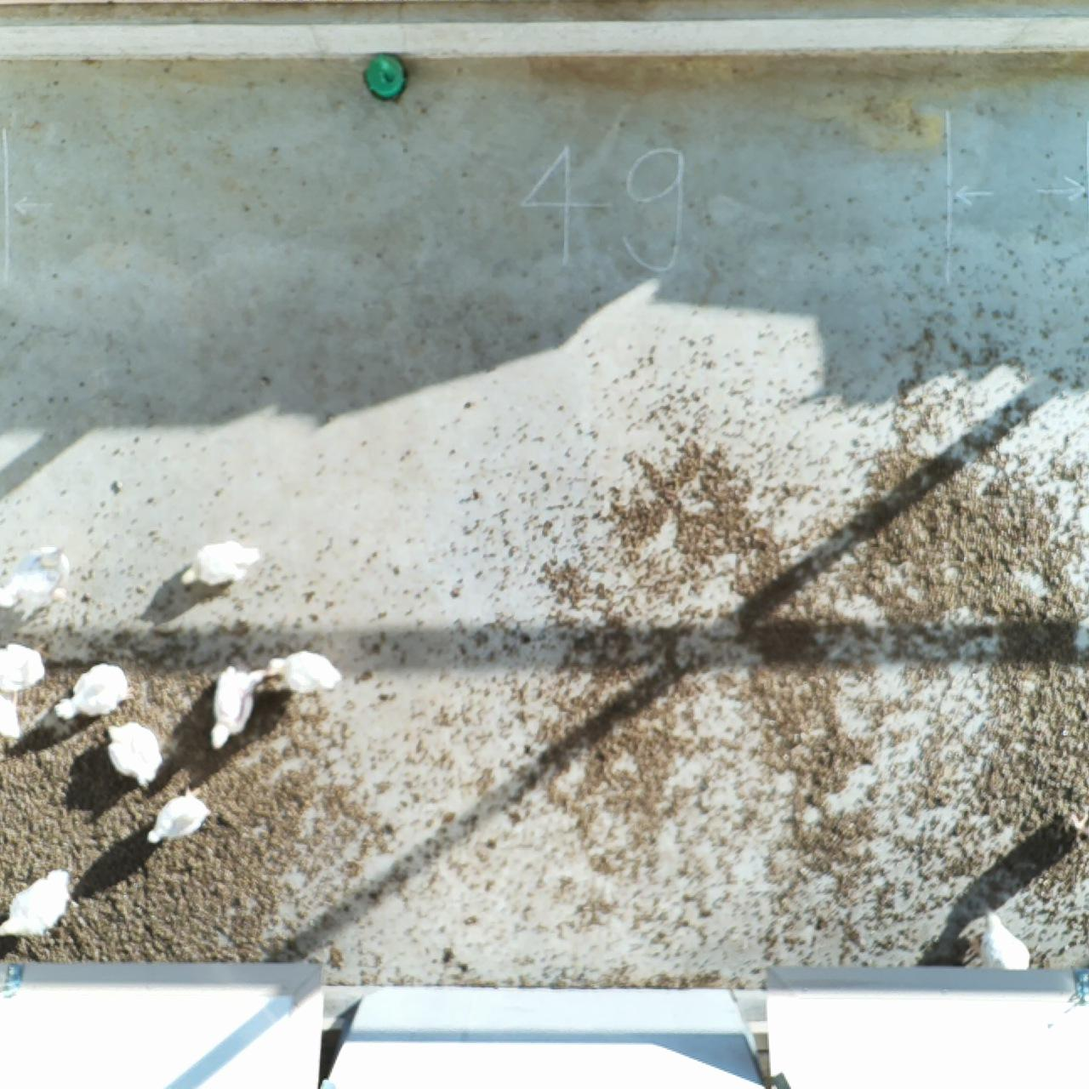chicken: (0, 865, 74, 938), (207, 665, 268, 753), (53, 660, 131, 722), (178, 537, 266, 591), (104, 721, 166, 790), (144, 792, 214, 847), (978, 904, 1033, 971), (269, 649, 344, 696), (0, 641, 48, 693), (0, 694, 23, 742)
